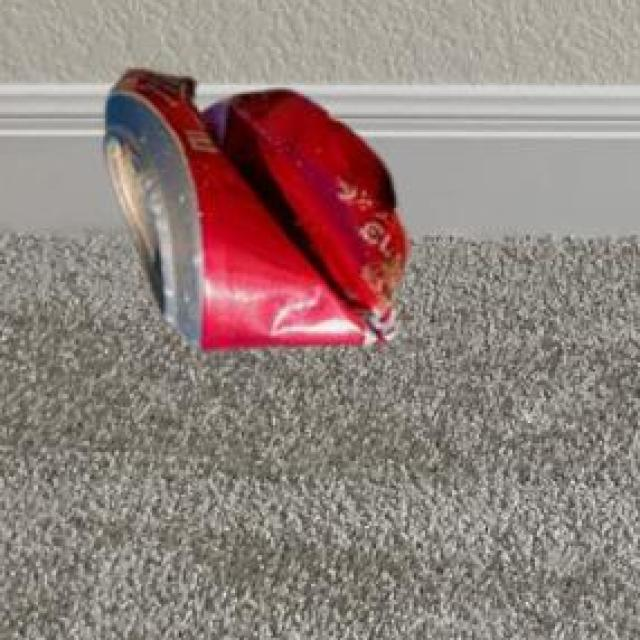logam: (102, 66, 402, 348)
